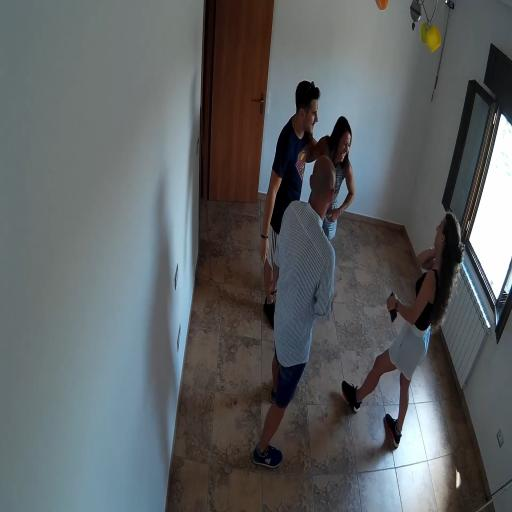nao-violencia: (253, 75, 358, 285)
